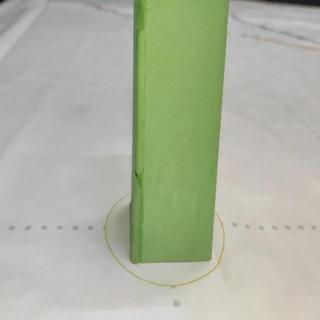greenbox: (133, 0, 230, 260)
